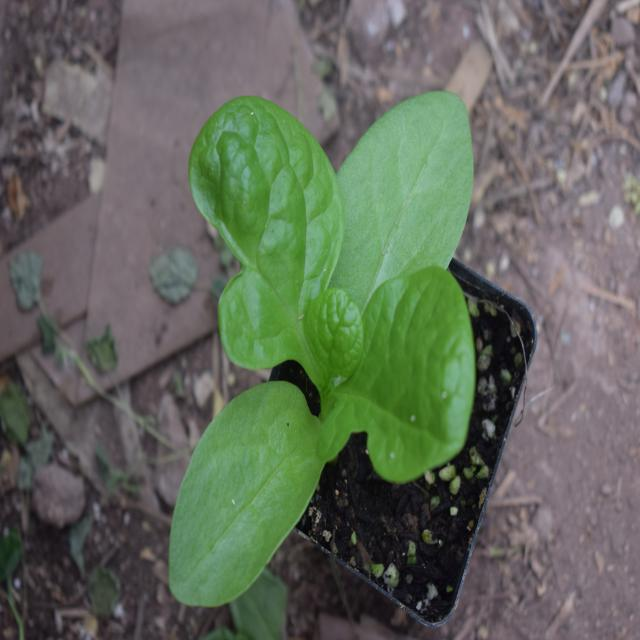Ceylon spinach: (187, 56, 468, 596)
